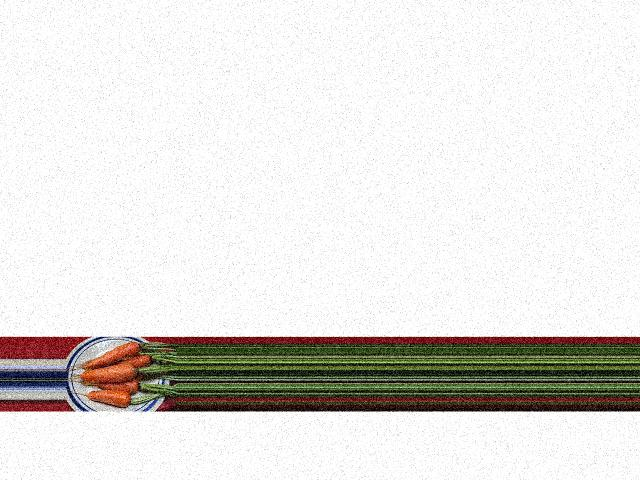carrot: (86, 387, 135, 409)
